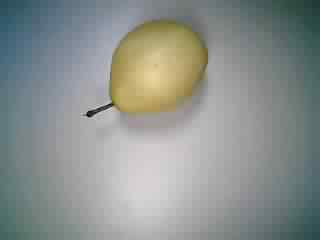pear: (66, 12, 223, 125)
